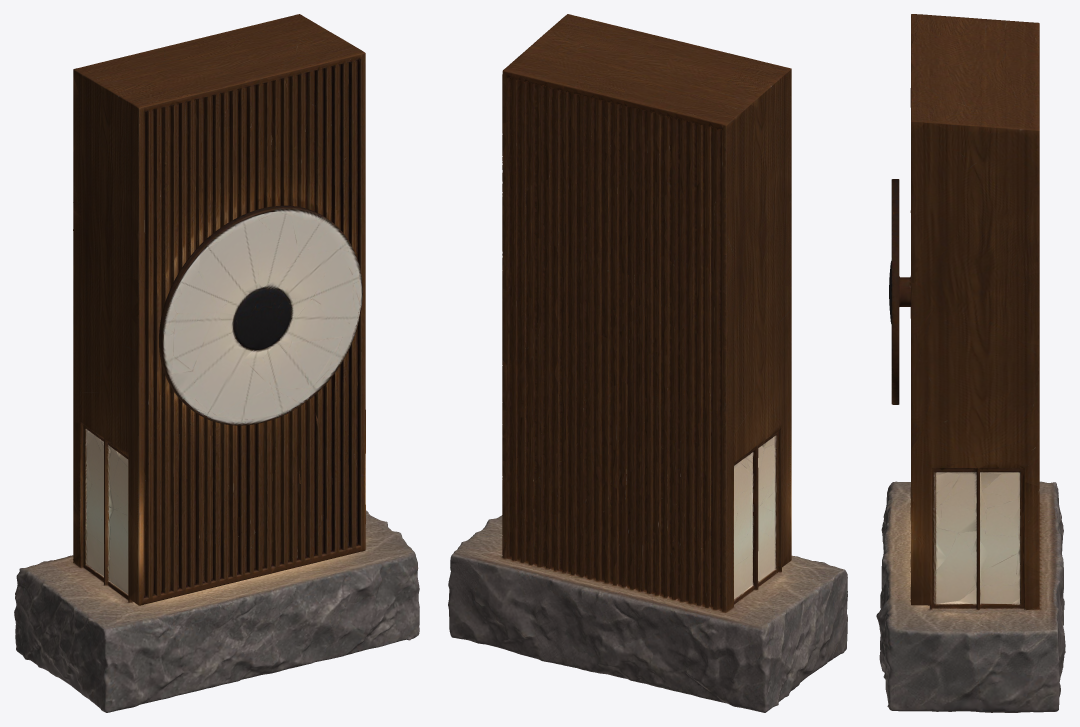
File: audio.glb
3 views of the same model, side by side, from view 1: azimuth 30°, elevation 25°; view 2: azimuth 150°, elevation 25°; view 3: azimuth 270°, elevation 25° (orthographic). The views are drawn at different scales.
Size of the model in its own units: 1.12 by 1.9 by 0.5718.
Materials: 1 (1 with a texture image).
